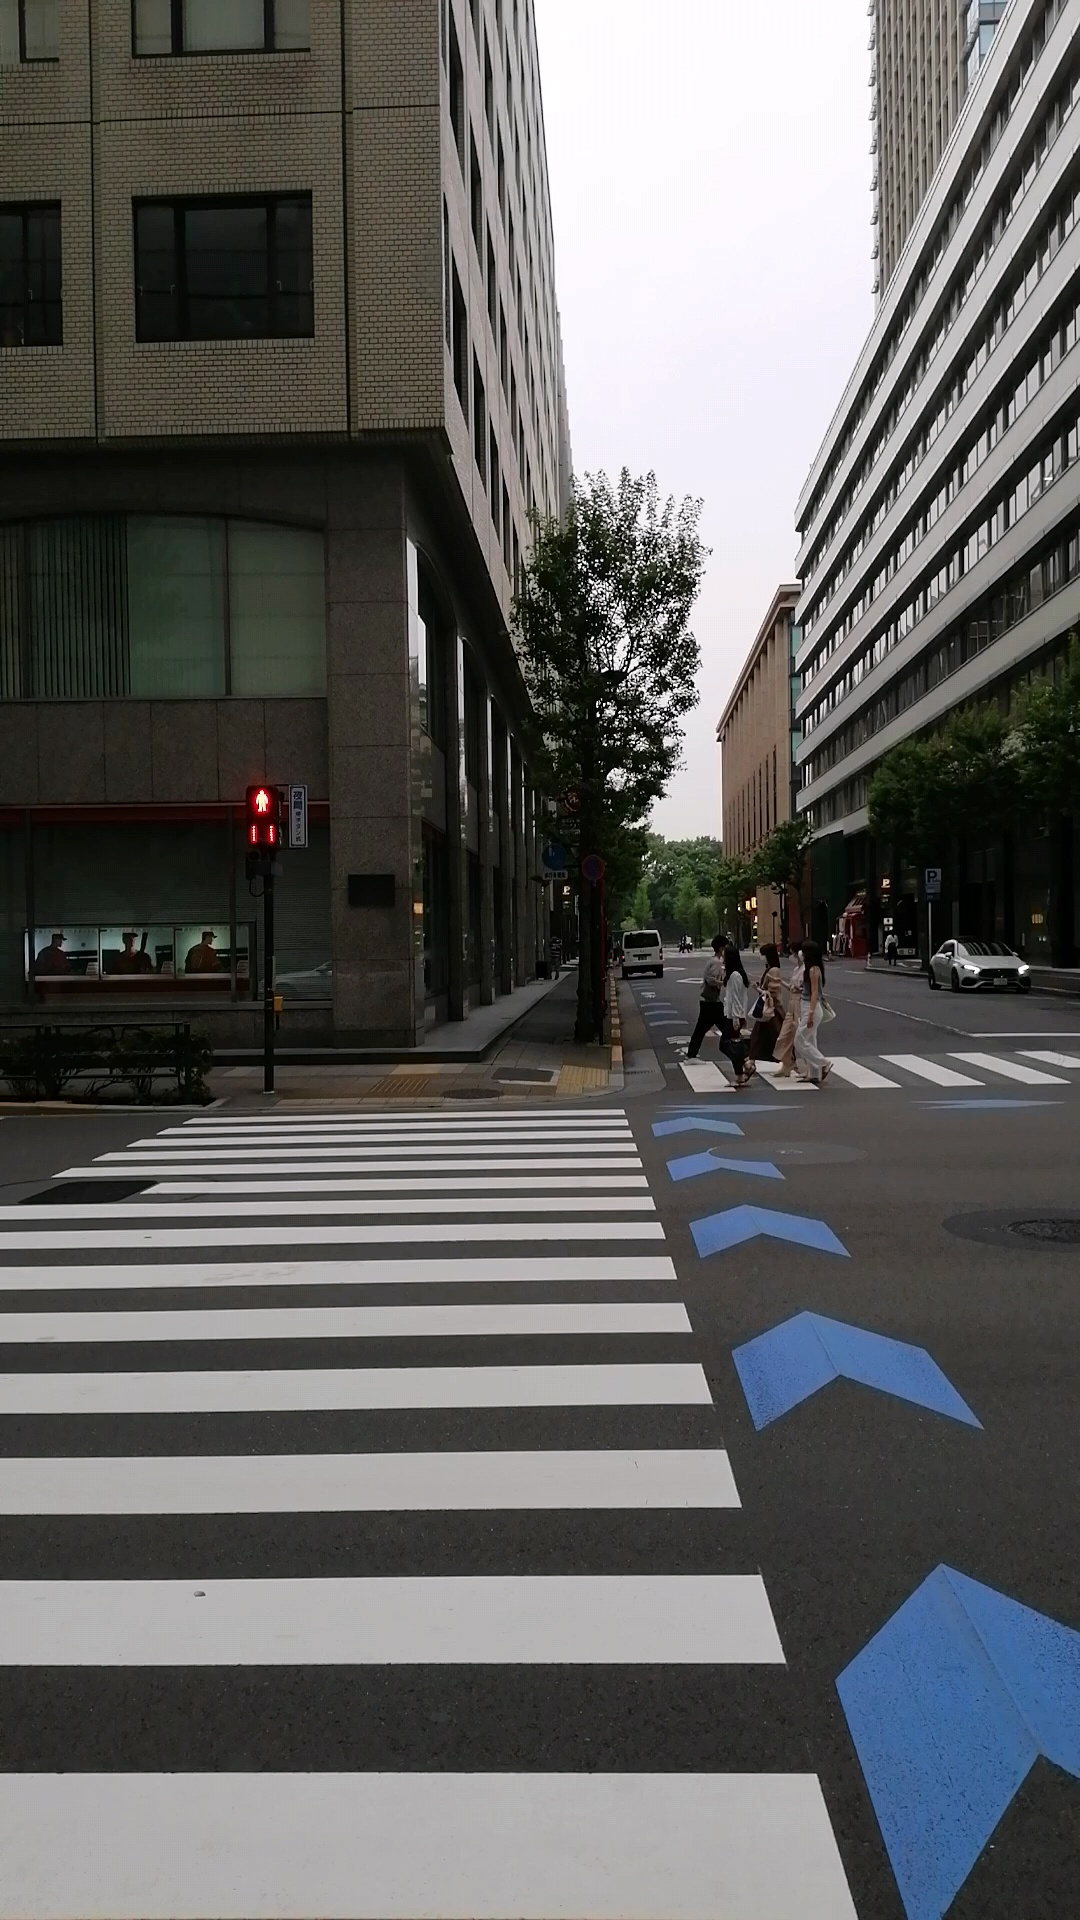red: (245, 785, 281, 852)
